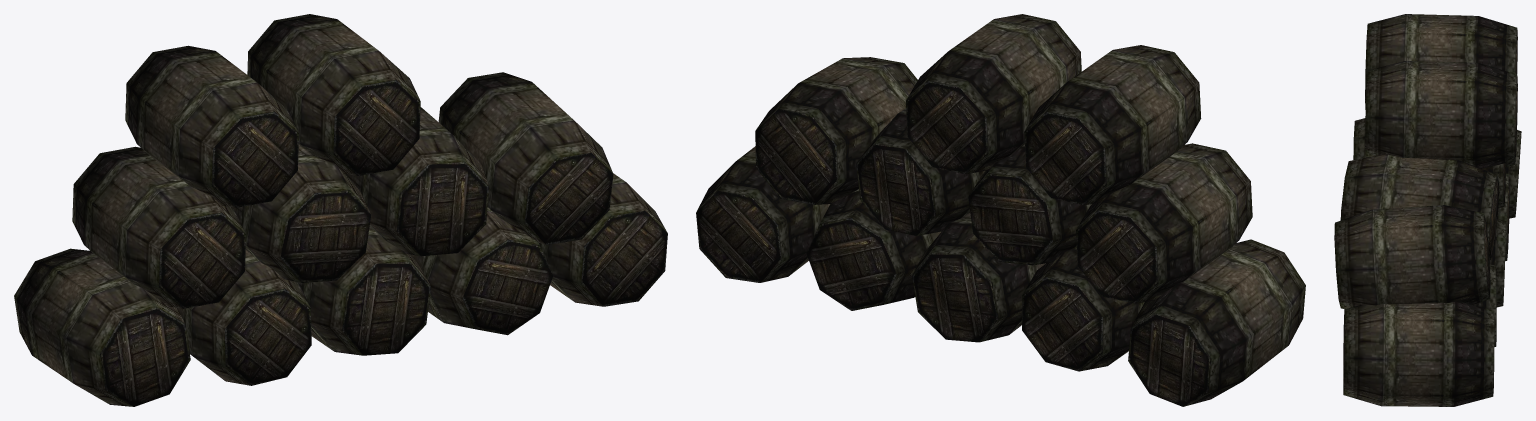
File: NW_HARBOUR_BARRELGROUP_01.glb
3 views of the same model, side by side, from view 1: azimuth 30°, elevation 25°; view 2: azimuth 150°, elevation 25°; view 3: azimuth 270°, elevation 25° (orthographic). The views are drawn at different scales.
Visible parts, largest first — view 1: Mesh; view 2: Mesh; view 3: Mesh.
Part boxes in pixels (left/top/right/bottom): Mesh: left=14, top=14, right=667, bottom=406; Mesh: left=696, top=14, right=1305, bottom=406; Mesh: left=1334, top=14, right=1521, bottom=406.
Size of the model in its own units: 3.99 by 1.96 by 1.38.
1 material, 1 textured.
